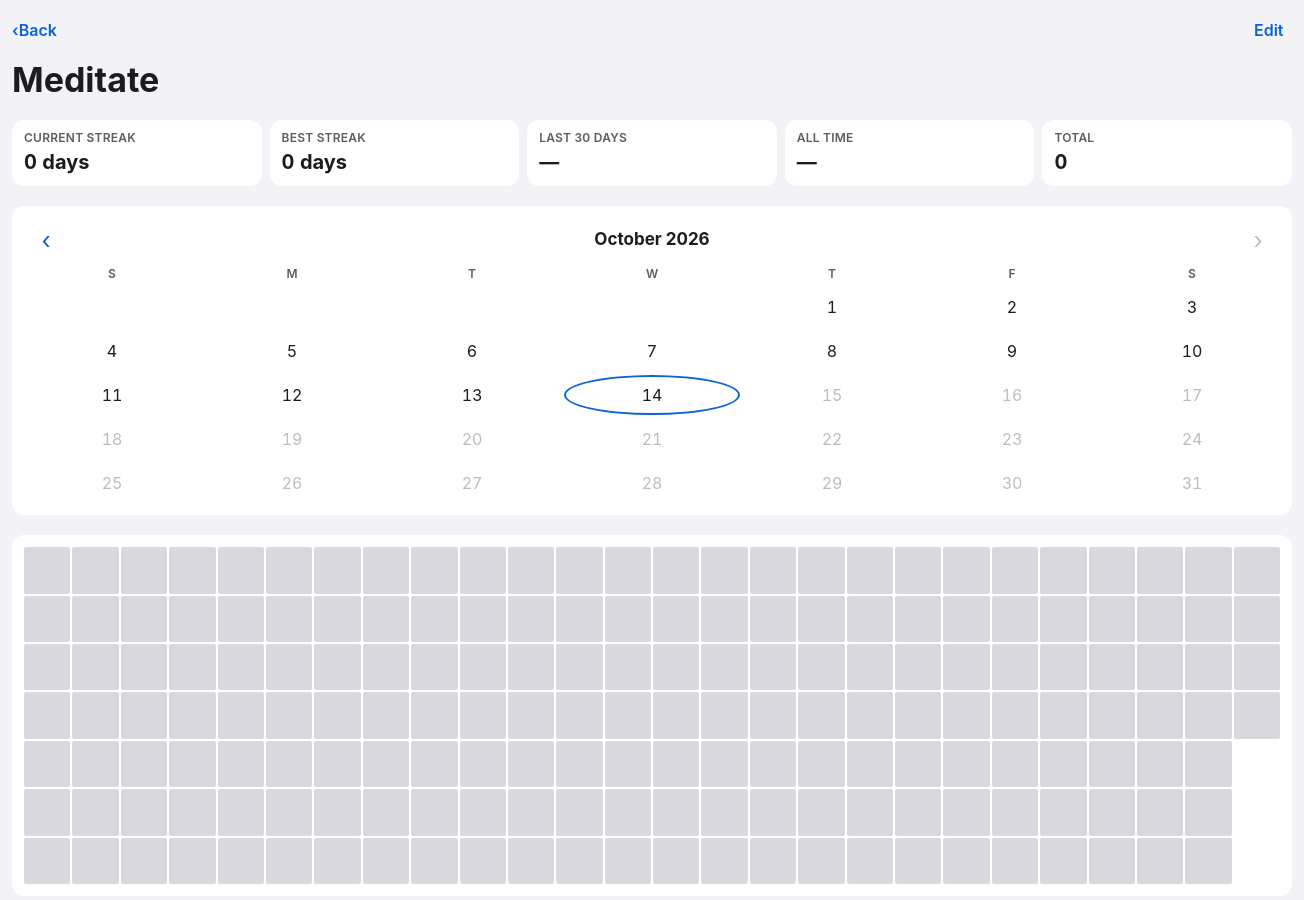
calendar backfill › goes back a month to fix older days, but never past this month
Check: the button named "Next month" is disabled, box [1236,218,1280,262]
Check: the button named "October 15" is disabled, box [744,375,920,415]
What coordinates should you click on to do the following:
click the button named "Previous month"
I would click on:
 (46, 240)
Its box is [24,218,68,262].
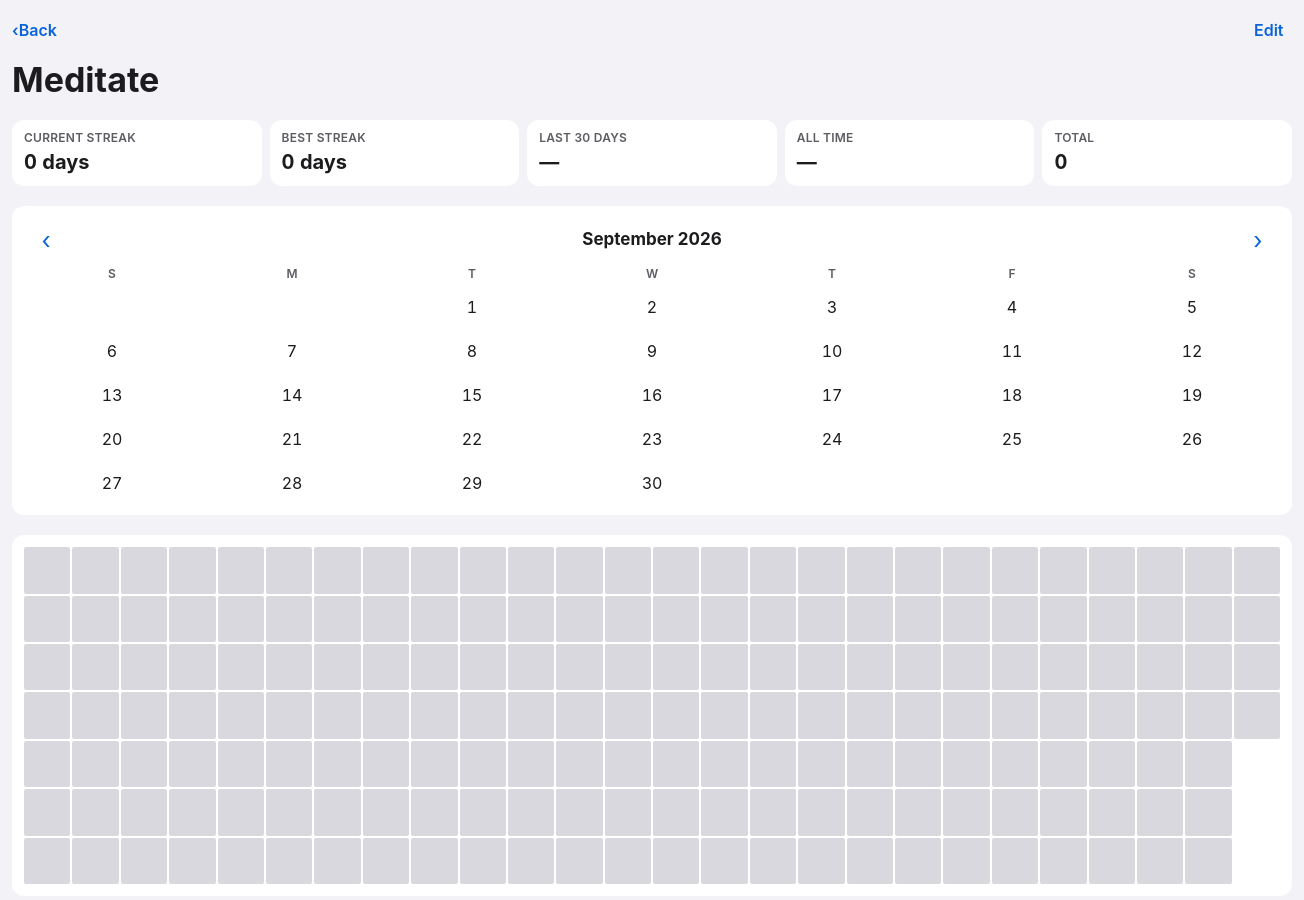
Check: the heading "September 2026" is shown, box [582,228,722,252]
Check: the button named "Next month" is enabled, box [1236,218,1280,262]
What coordinates should you click on to do the following:
click the button named "September 30, not done"
I would click on:
 (652, 483)
Its box is [564,463,740,503].
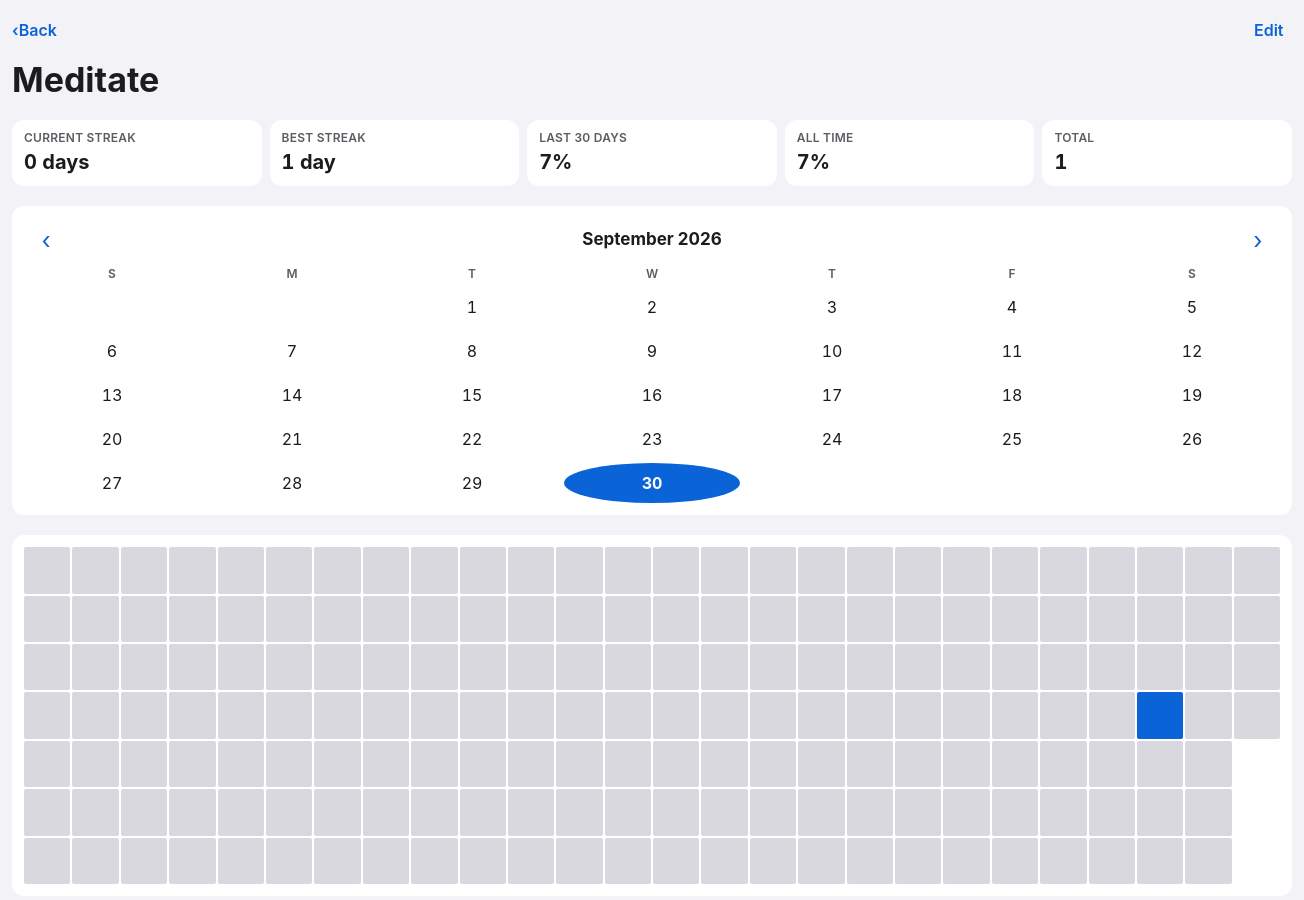
What coordinates should you click on to do the following:
click the button named "Next month"
I would click on:
 (1258, 240)
Its box is [1236,218,1280,262].
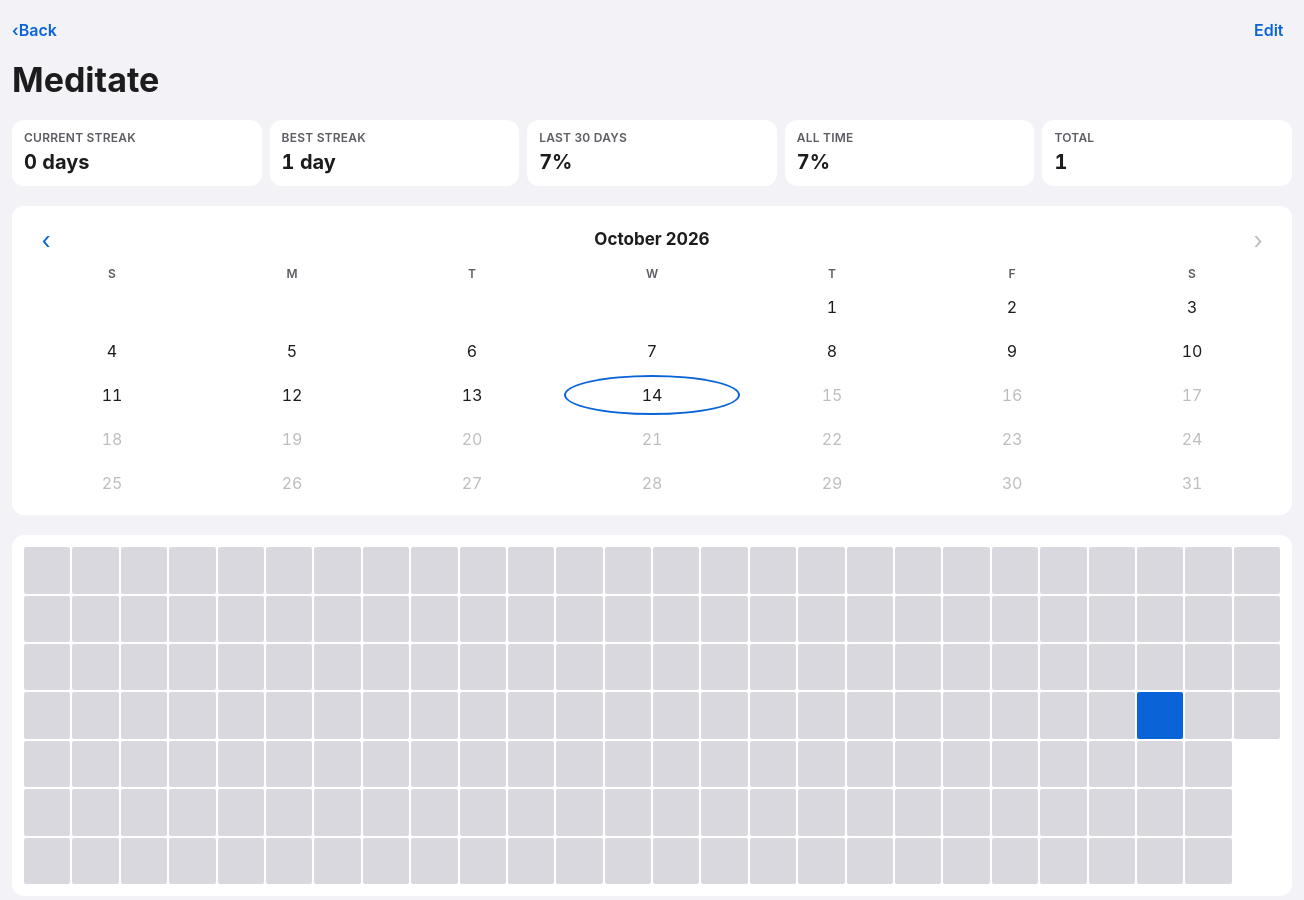
Check: the heading "October 2026" is shown, box [594,228,710,252]
